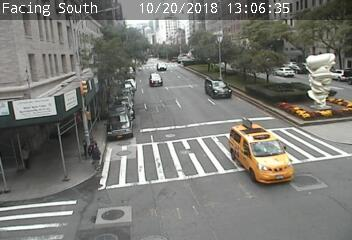car: (224, 126, 296, 184), (204, 81, 233, 100), (148, 74, 161, 86), (156, 60, 165, 71)
